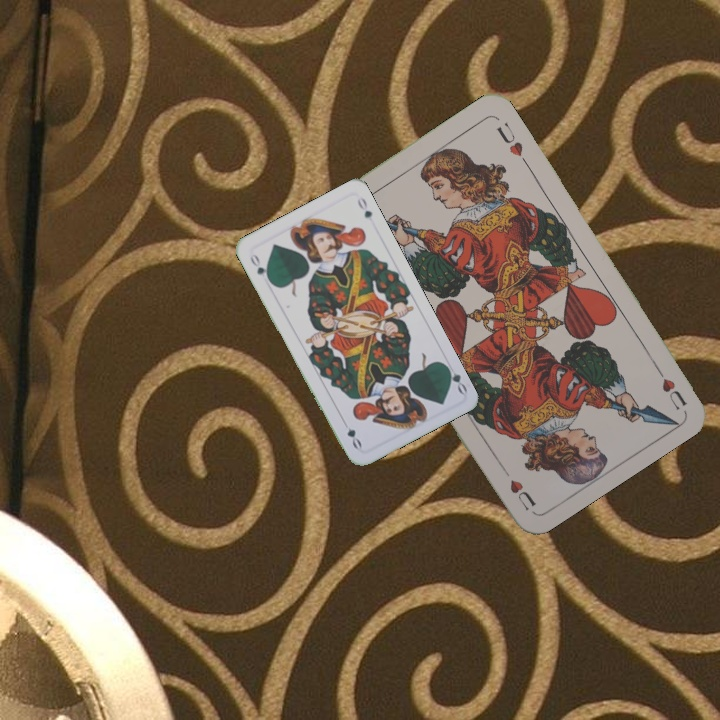GO: (440, 360, 470, 397), (246, 249, 273, 285)
HU: (649, 359, 689, 413)
